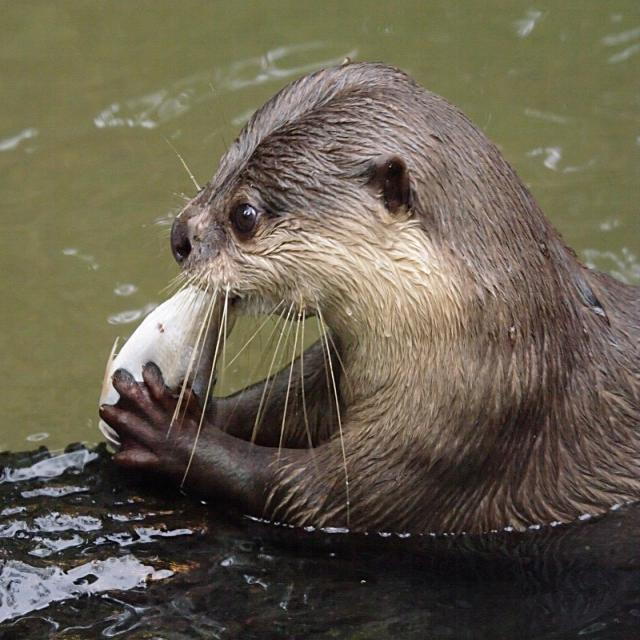otter: (101, 61, 640, 534)
